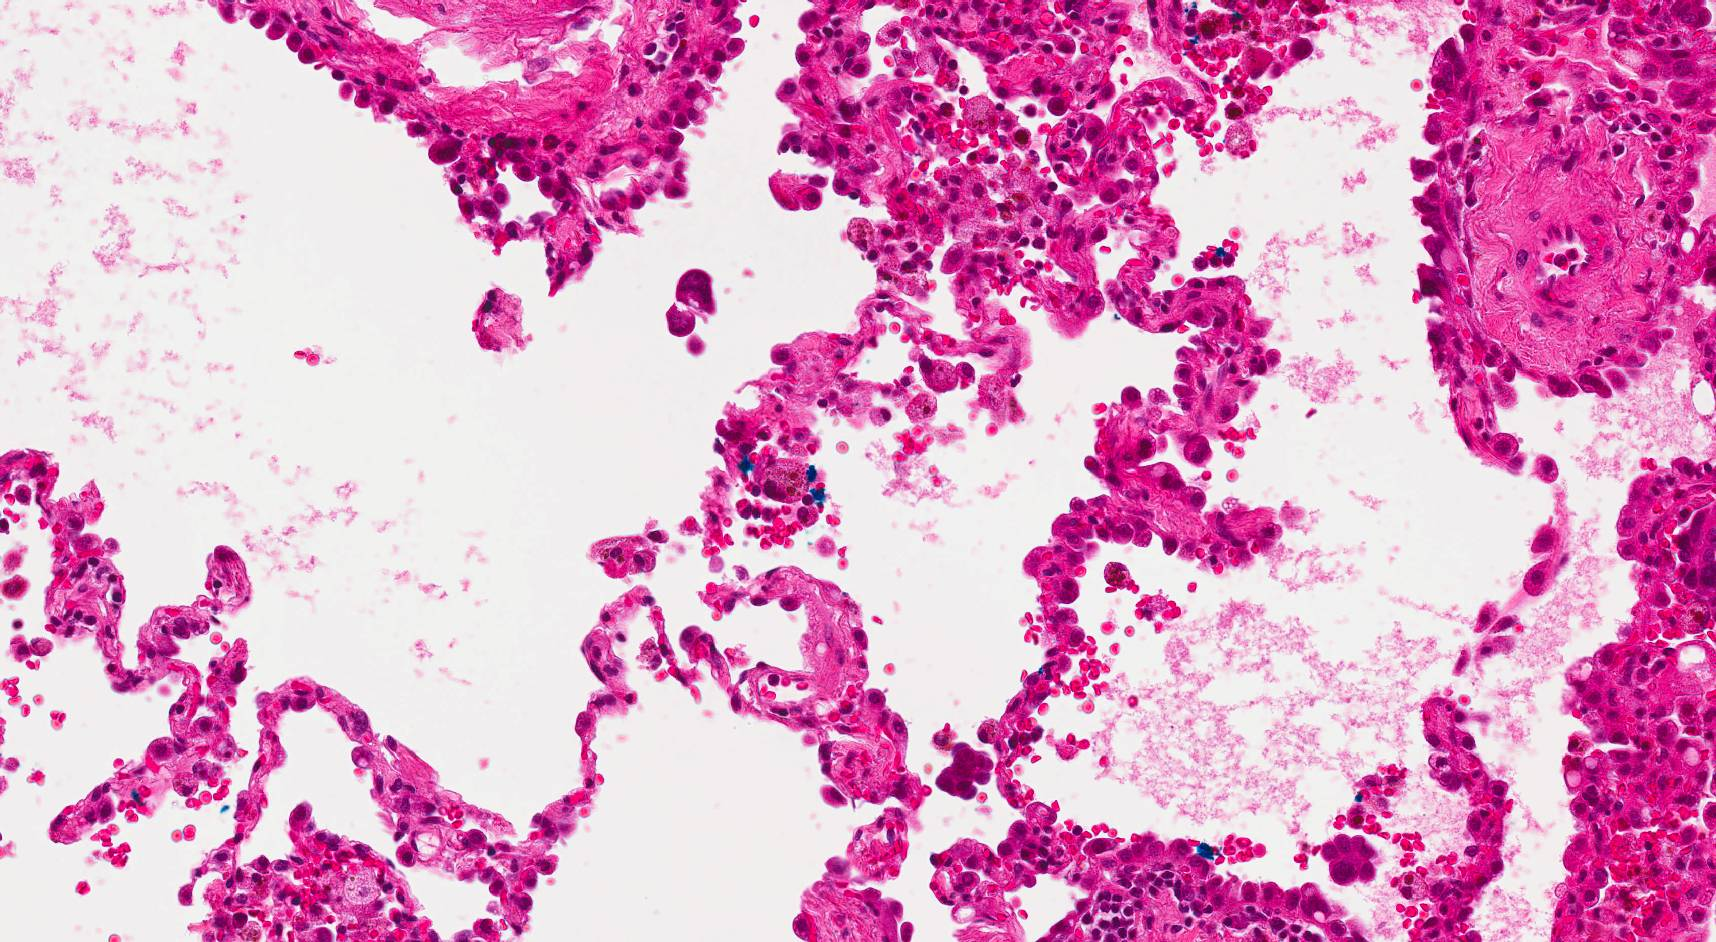stas: (666, 263, 719, 337), (932, 741, 995, 801), (1318, 833, 1383, 885)
